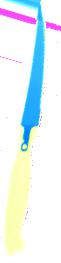Knife: (7, 5, 45, 252)
